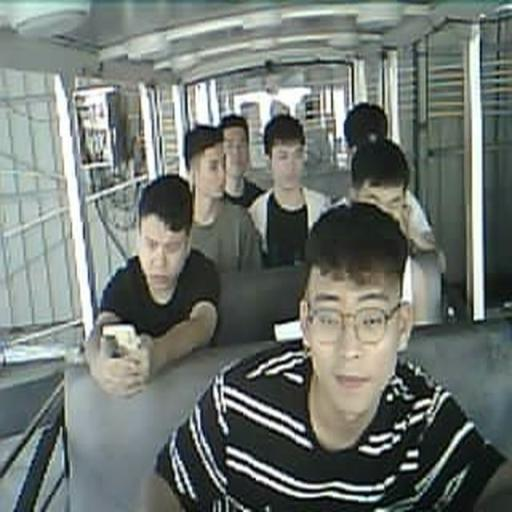persona: (154, 200, 509, 511), (84, 174, 221, 398), (320, 103, 446, 274), (246, 113, 332, 268), (350, 138, 414, 330), (182, 124, 264, 273), (218, 114, 265, 210)
